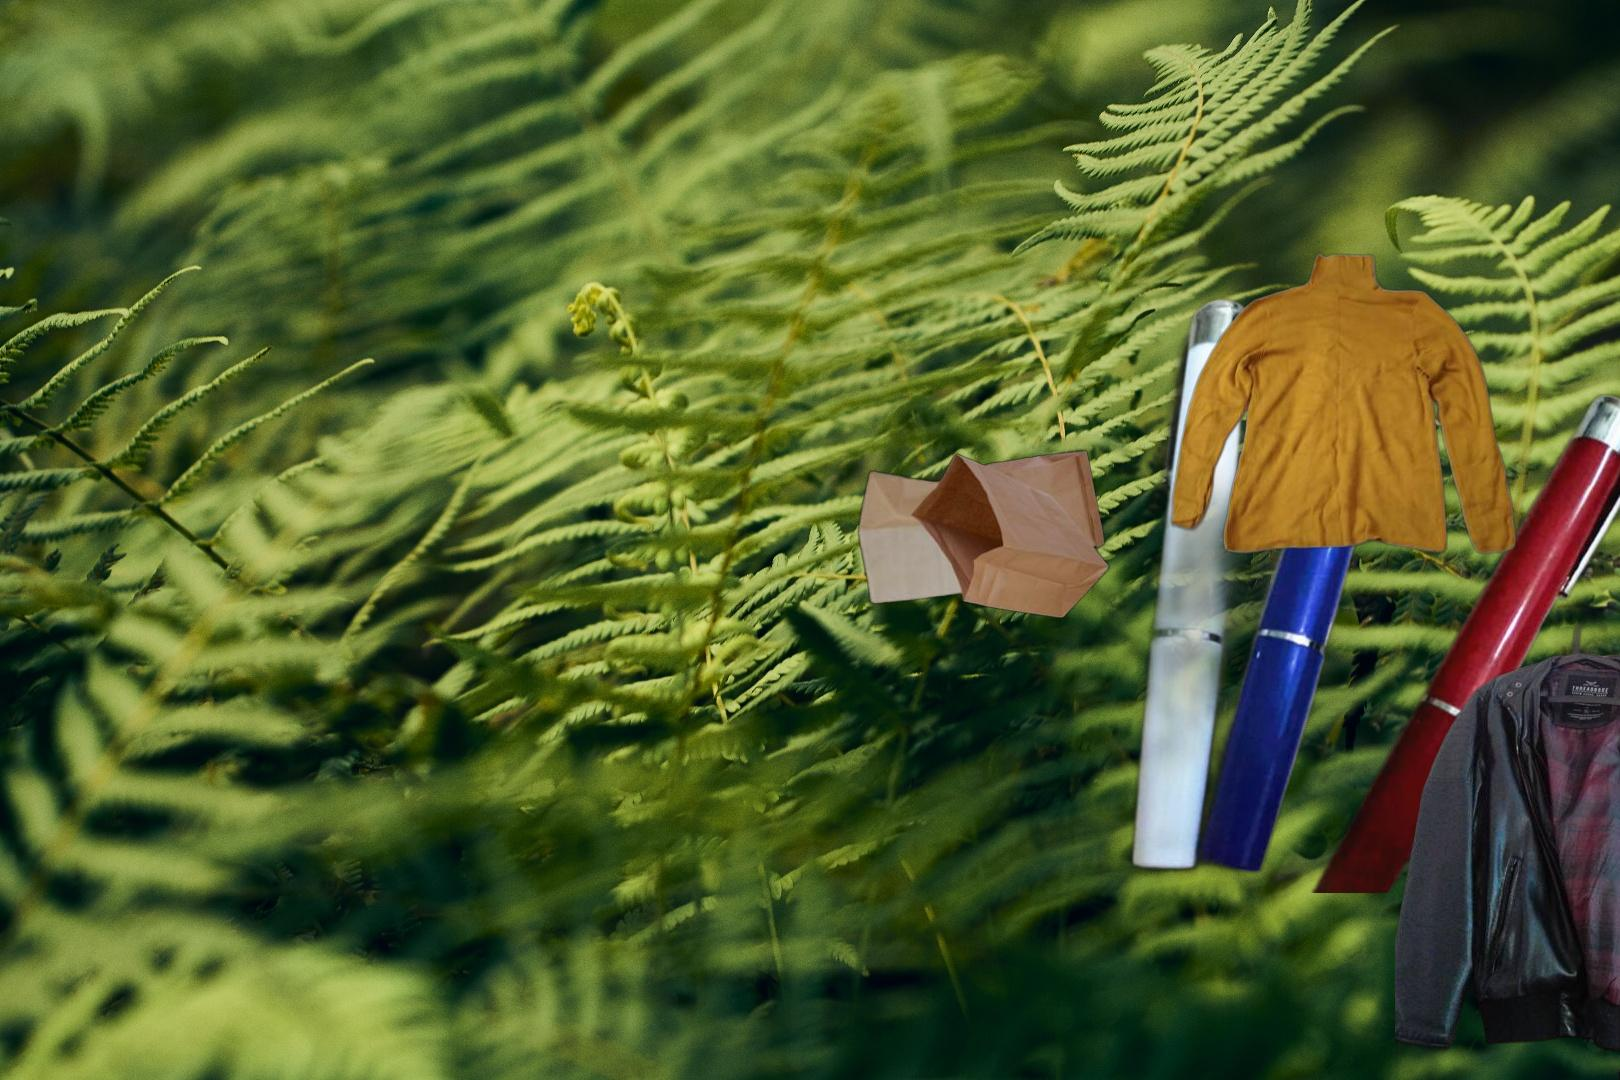biological: (1549, 341, 1620, 494)
clothes: (1167, 250, 1519, 557), (1395, 614, 1620, 1080)
paper-bag: (856, 448, 1113, 621)
penholder: (1125, 293, 1620, 893)
